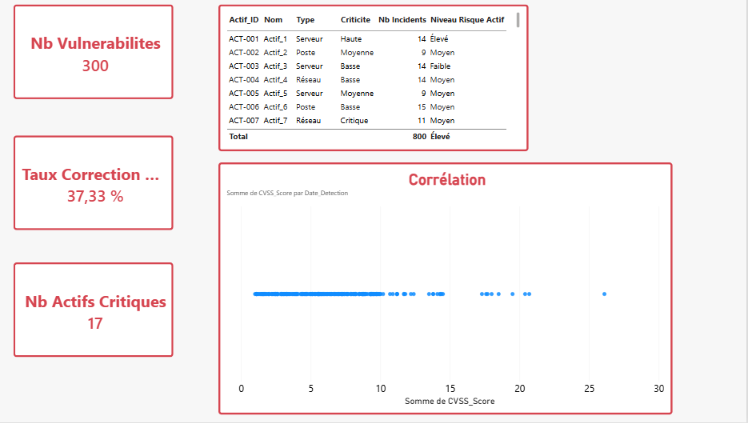

The page's visual inventory and layout, read from the dashboard file:
{"tool":"powerbi","page":{"name":"Vuln & actifs","canvas":[1920,1080],"ordinal":2},"visuals":[{"type":"cardVisual","fields":{"Data":["Mesures.Nb Vulnerabilites"]},"box":[87.5,35,400,237.5],"z":0},{"type":"cardVisual","fields":{"Data":["Mesures.Taux Correction Vulns"]},"box":[87.5,362.5,400,237.5],"z":1000},{"type":"cardVisual","fields":{"Data":["Mesures.Nb Actifs Critiques"]},"box":[87.5,680,400,237.5],"z":2000},{"type":"tableEx","fields":{"Values":["actifs.Actif_ID","actifs.Nom","actifs.Type","actifs.Criticite","Mesures.Nb Incidents","Mesures.Niveau Risque Actif"]},"box":[600,35,775,367.5],"z":3000},{"type":"scatterChart","title":"Corrélation","fields":{"Category":["vulnerabilites.Date_Detection"],"X":["Sum(vulnerabilites.CVSS_Score)"]},"box":[600,430,1135,630],"z":4000}]}

Visuals, with their boxes in screenshot pixels (x1, y1, x2, y2), scaled from the page's 1920x1080 canvas onto the 748x423 screenshot:
cardVisual - Mesures.Nb Vulnerabilites: [left=34, top=14, right=190, bottom=107]
cardVisual - Mesures.Taux Correction Vulns: [left=34, top=142, right=190, bottom=235]
cardVisual - Mesures.Nb Actifs Critiques: [left=34, top=266, right=190, bottom=359]
tableEx - actifs.Actif_ID x actifs.Nom: [left=234, top=14, right=536, bottom=158]
"Corrélation" scatterChart: [left=234, top=168, right=676, bottom=415]
